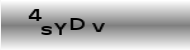4: (27, 8, 42, 22)
D: (68, 17, 85, 31)
Y: (52, 21, 67, 36)
s: (40, 25, 52, 36)
v: (91, 21, 105, 32)
